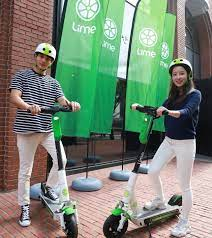kick_wheel: (104, 212, 129, 238), (61, 210, 79, 237)
